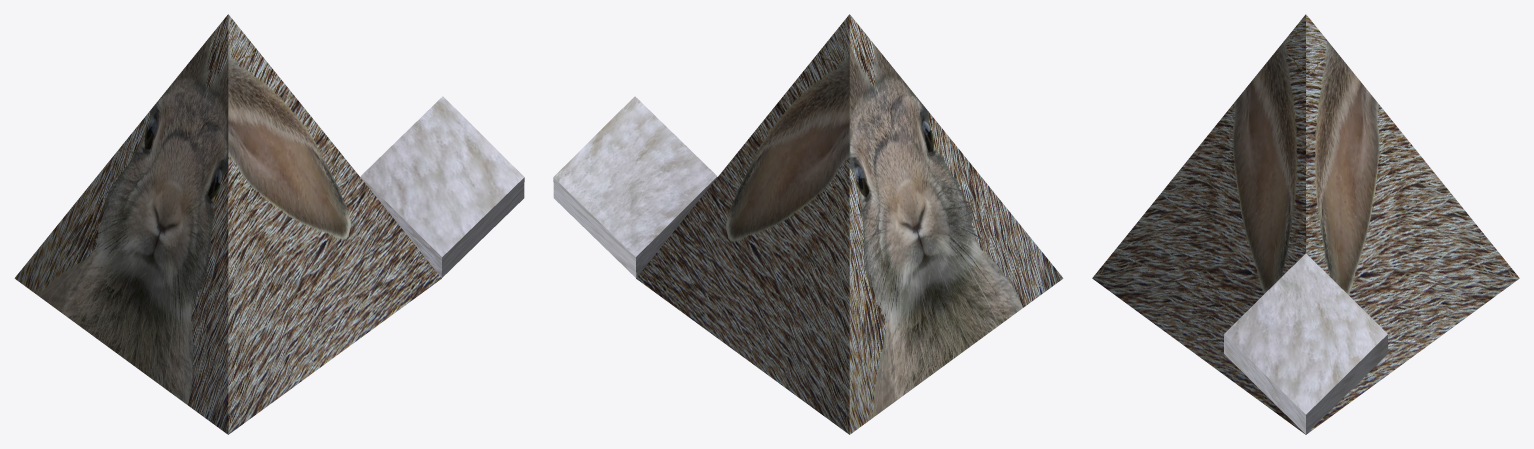
File: rabbitcube.glb
The picture shows the model from 3 angles, left to right: view 1: azimuth 30°, elevation 25°; view 2: azimuth 150°, elevation 25°; view 3: azimuth 270°, elevation 25°; orthographic projection.
Visible parts, largest first — view 1: Solid, Cube.001; view 2: Solid, Cube.001; view 3: Solid, Cube.001.
Boxes of the visible parts, x1,y1,x2,y2 form: Solid: [14, 14, 441, 434]; Cube.001: [360, 96, 524, 277]; Solid: [636, 14, 1063, 434]; Cube.001: [553, 96, 717, 277]; Solid: [1092, 14, 1519, 434]; Cube.001: [1224, 253, 1387, 434].
Size of the model in its own units: 1.78 by 1.33 by 1.63.
Materials: 2 (2 with a texture image).
